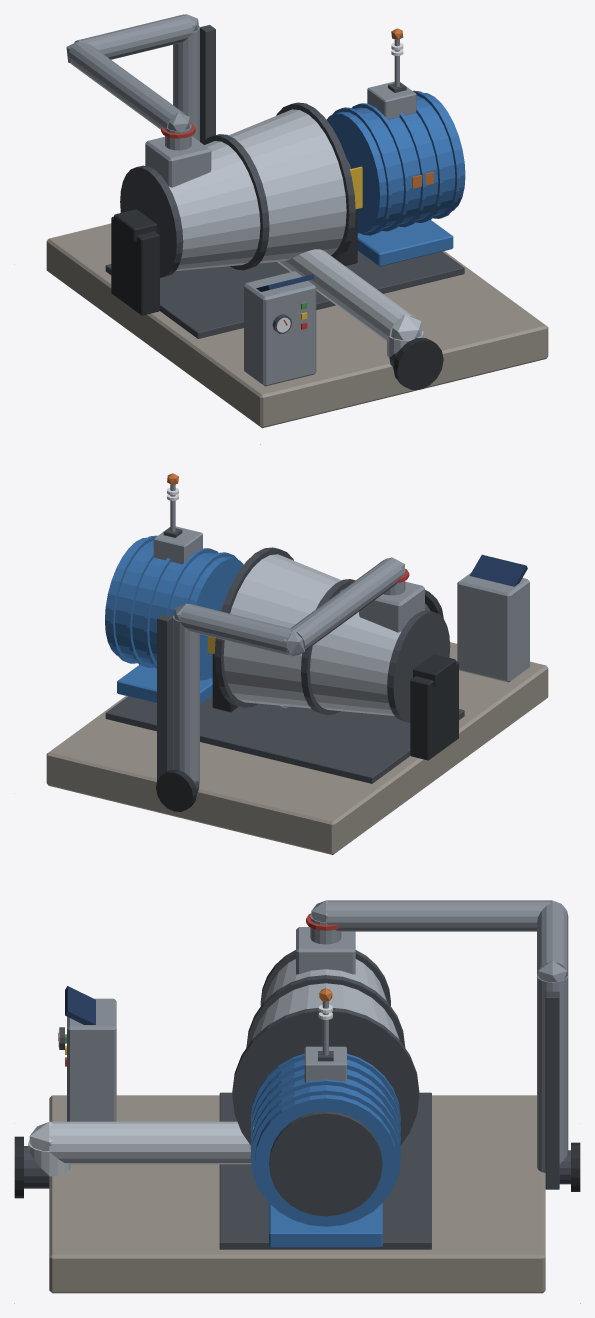
Rendered from turbine_vapeur.glb.
3 renders of one model, top to bottom at view 1: azimuth 30°, elevation 25°; view 2: azimuth 150°, elevation 25°; view 3: azimuth 270°, elevation 25°, orthographic. The views are drawn at different scales.
Visible parts, largest first — view 1: pieces_beton.006, pieces_acier.018, corps.004, pieces_acier_sombre.016, alternateur.004, pieces_fonte.012, pieces_bleu.006, pieces_gris_clair.006; view 2: pieces_beton.006, pieces_acier_sombre.016, pieces_acier.018, corps.004, alternateur.004, pieces_fonte.012, pieces_bleu.006, pieces_panneau.004; view 3: pieces_beton.006, pieces_acier_sombre.016, pieces_acier.018, pieces_gris_clair.006, pieces_bleu.006, alternateur.004, corps.004, pieces_fonte.012, pieces_panneau.004.
Boxes of the visible parts, left/top/right/bottom form: pieces_beton.006: left=46, top=223, right=548, bottom=428; pieces_acier.018: left=66, top=14, right=416, bottom=386; corps.004: left=169, top=109, right=346, bottom=270; pieces_acier_sombre.016: left=105, top=25, right=464, bottom=367; alternateur.004: left=326, top=93, right=465, bottom=233; pieces_fonte.012: left=111, top=209, right=443, bottom=389; pieces_bleu.006: left=332, top=90, right=460, bottom=266; pieces_gris_clair.006: left=277, top=249, right=423, bottom=357; pieces_beton.006: left=46, top=642, right=548, bottom=854; pieces_acier_sombre.016: left=105, top=527, right=464, bottom=792; pieces_acier.018: left=153, top=484, right=529, bottom=784; corps.004: left=223, top=554, right=401, bottom=715; alternateur.004: left=105, top=537, right=243, bottom=678; pieces_fonte.012: left=156, top=590, right=458, bottom=811; pieces_bleu.006: left=110, top=535, right=237, bottom=704; pieces_panneau.004: left=469, top=554, right=527, bottom=586; pieces_beton.006: left=49, top=1095, right=545, bottom=1293; pieces_acier_sombre.016: left=24, top=950, right=570, bottom=1249; pieces_acier.018: left=67, top=900, right=568, bottom=1172; pieces_gris_clair.006: left=28, top=1121, right=251, bottom=1176; pieces_bleu.006: left=250, top=1053, right=400, bottom=1247; alternateur.004: left=255, top=1059, right=396, bottom=1226; corps.004: left=252, top=959, right=399, bottom=1039; pieces_fonte.012: left=14, top=1136, right=580, bottom=1198; pieces_panneau.004: left=65, top=986, right=95, bottom=1024.
Size of the model in its own units: 1.5 by 1.12 by 2.
